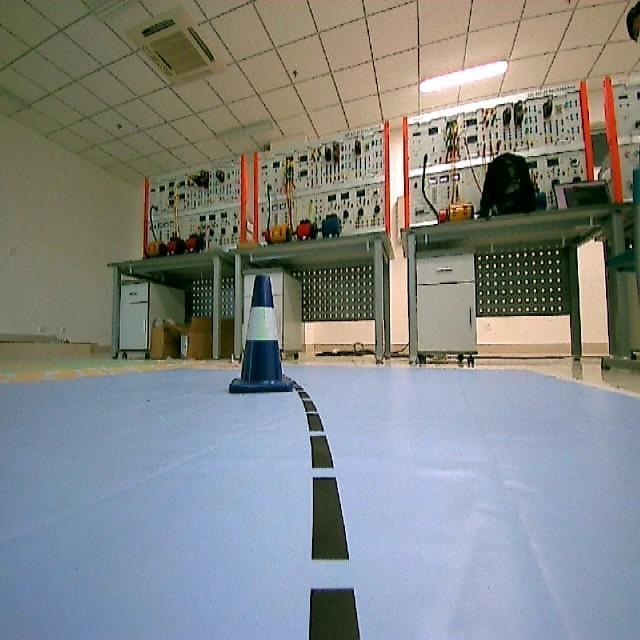obstacle: (220, 274, 298, 398)
